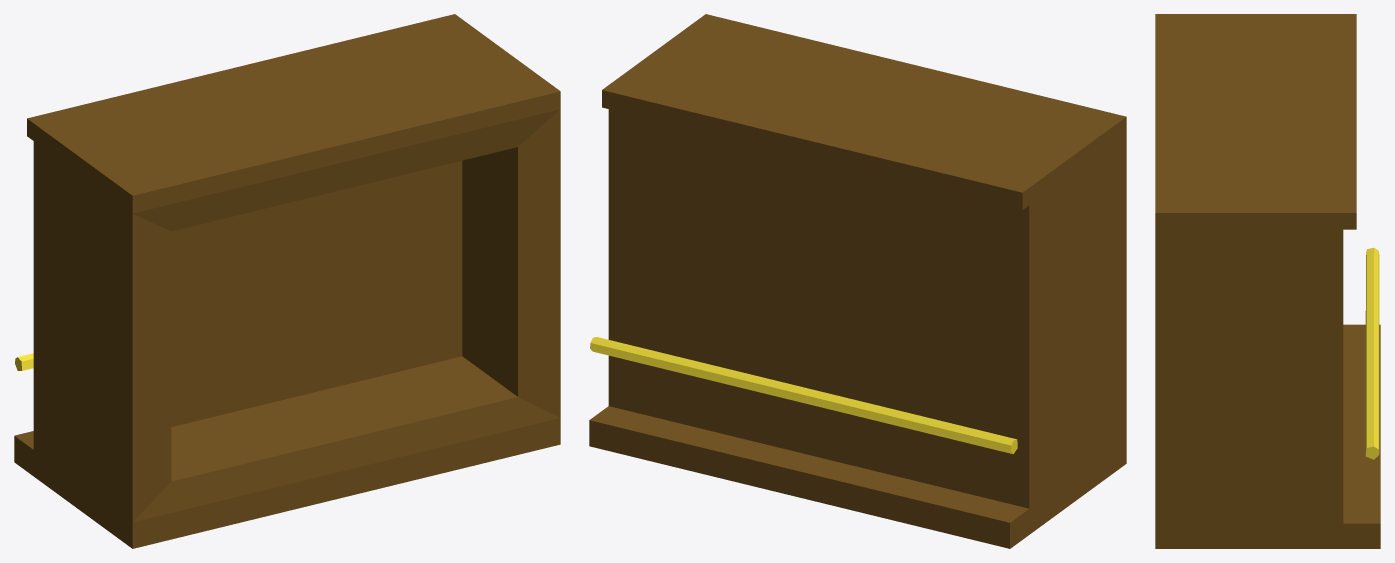
Rendered from barcounter.glb.
3 renders of one model, left to right at view 1: azimuth 30°, elevation 25°; view 2: azimuth 150°, elevation 25°; view 3: azimuth 270°, elevation 25°, orthographic. The views are drawn at different scales.
Visible parts, largest first — view 1: group134078654; view 2: group134078654, group1072627430; view 3: group134078654, group1072627430.
Boxes of the visible parts, x1,y1,x2,y2 form: group134078654: (14,14,560,548); group134078654: (589,14,1126,548); group1072627430: (590,337,1017,454); group134078654: (1155,14,1380,548); group1072627430: (1365,247,1379,459).
Bounding box in the file's own units: 0.9993 × 0.7875 × 0.4789.
